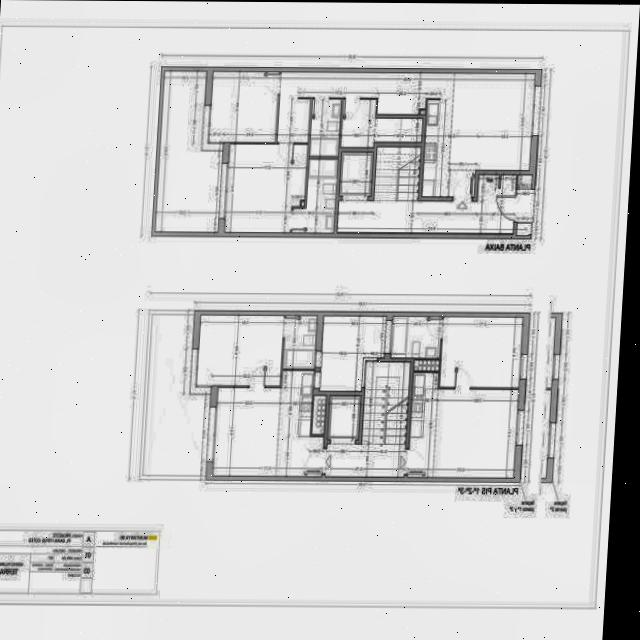room: (275, 72, 534, 197), (336, 151, 516, 243), (406, 359, 519, 484), (211, 370, 326, 476), (154, 69, 227, 235), (224, 140, 307, 237), (324, 394, 407, 481), (196, 315, 283, 386), (439, 317, 522, 388), (318, 312, 386, 395), (208, 68, 278, 146), (340, 100, 422, 148), (291, 157, 337, 235), (390, 316, 441, 358), (282, 314, 317, 371), (308, 98, 341, 158)
